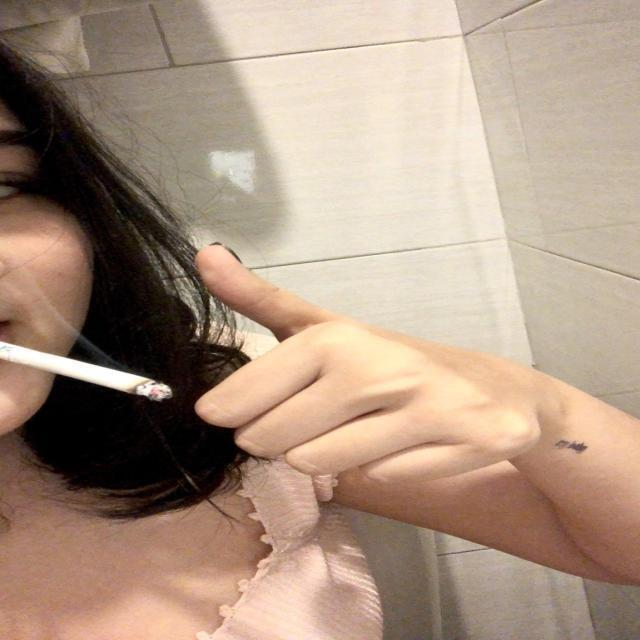rokok: (0, 341, 172, 405)
